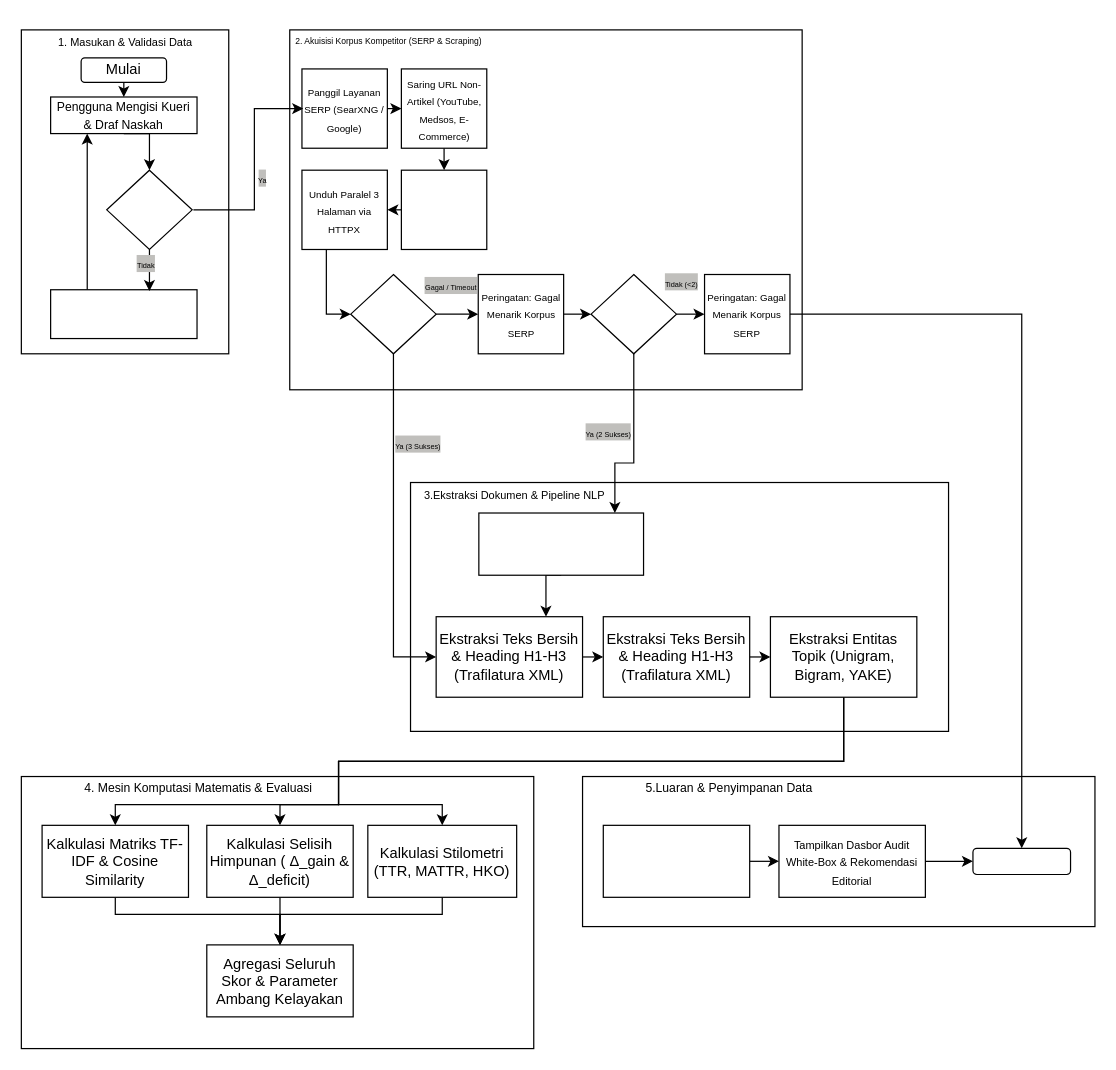
The diagram is 1116 pixels wide and 1070 high, and some of its shapes have lost their labels. The shapes that lost their labels are listed below. From the top down, each one's centre as x and y in pixels, then its label:
At [149,209]: "Draf >= 300 Kata?".
At [443,209]: "Ambil 3 URL Organik Teratas".
At [123,314]: "Peringatan: Teks Kurang Panjang".
At [393,313]: "3Halaman Sukses (HTTP 200)?".
At [633,313]: "Tersedia >=2 Dokumen?".
At [561,543]: "Catat Warning Degradasi Parsial (FR-13)".
At [676,860]: "Simpan Snapshot Audit & SHA-256 Hash ke Basis Data".
At [1021,860]: "Selesai".
